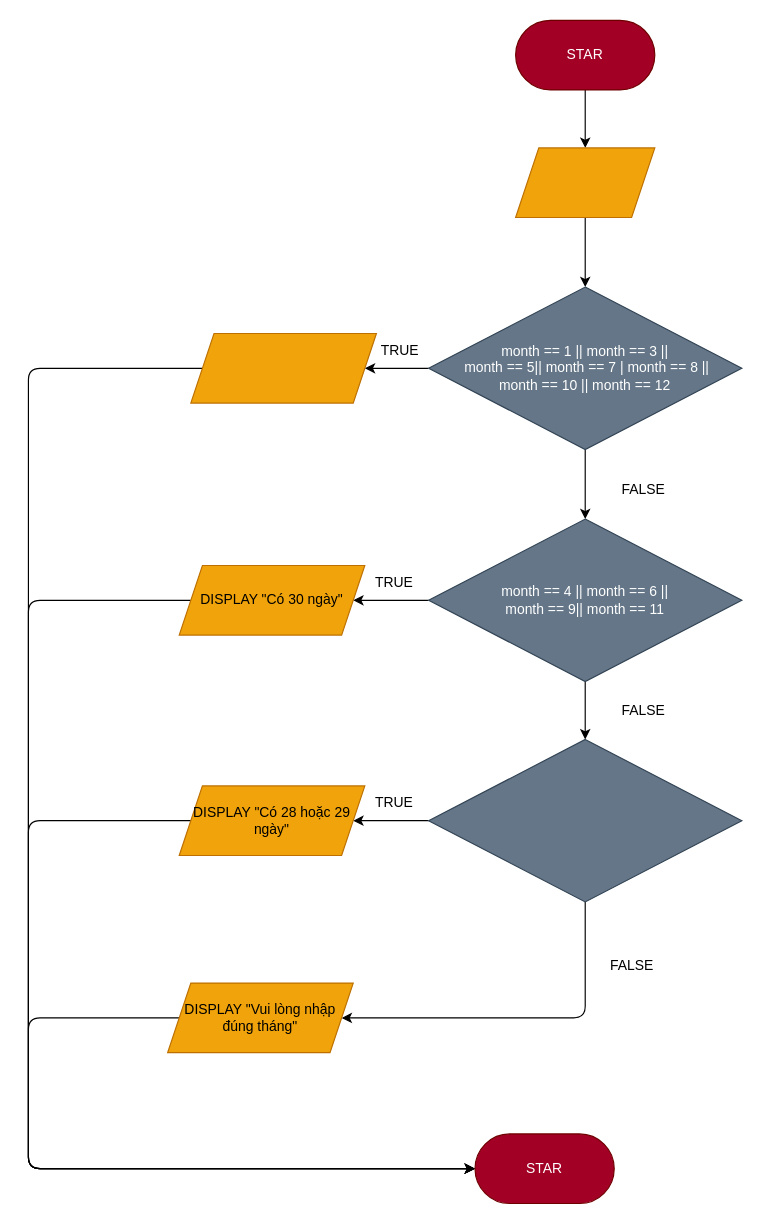
Image size: 762x1224. Some labels were removed from this diagram. The box of each missing label's shape, as (x1, y1, x2, y2) in pixels:
DISPLAY "Có 31 ngày": (190, 332, 376, 403)
iINPUT month: (514, 147, 655, 217)
month == 2: (427, 738, 742, 902)
